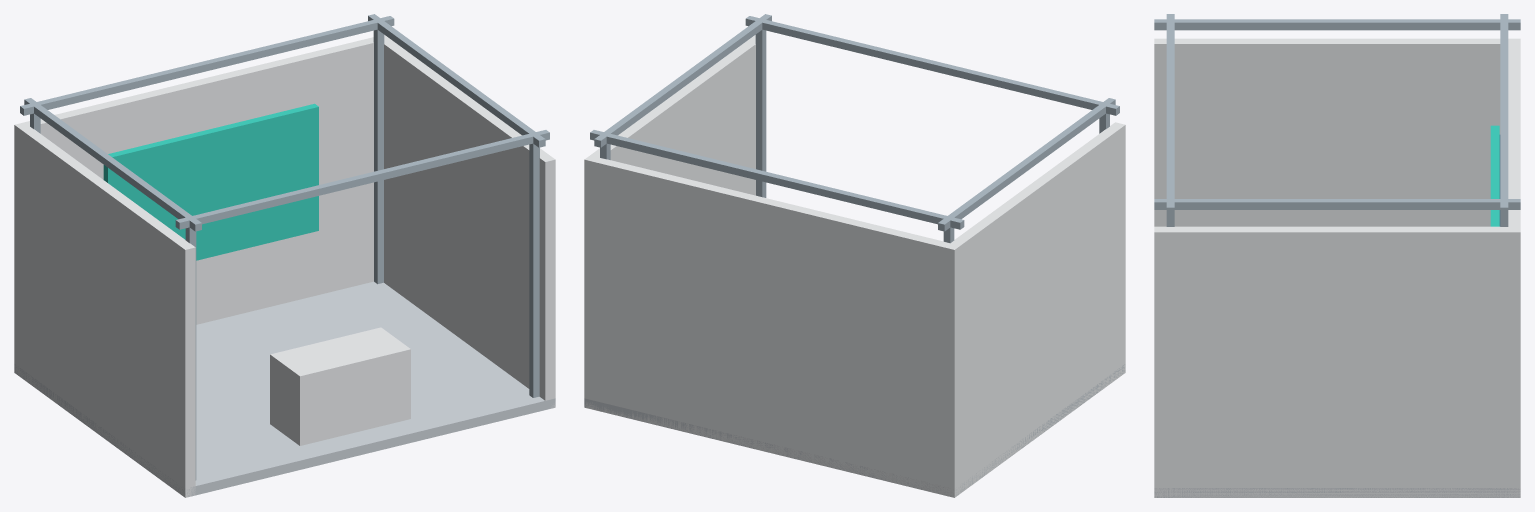
3 views of the same model, side by side, from view 1: azimuth 30°, elevation 25°; view 2: azimuth 150°, elevation 25°; view 3: azimuth 270°, elevation 25° (orthographic). The views are drawn at different scales.
Parts seen in each view (by area): view 1: Exhibition Booth Concept; view 2: Exhibition Booth Concept; view 3: Exhibition Booth Concept.
Part boxes in pixels (left/top/right/bottom): Exhibition Booth Concept: left=14, top=14, right=555, bottom=497; Exhibition Booth Concept: left=584, top=14, right=1125, bottom=497; Exhibition Booth Concept: left=1154, top=14, right=1520, bottom=497.
Size of the model in its own units: 5 by 3.49 by 4.
